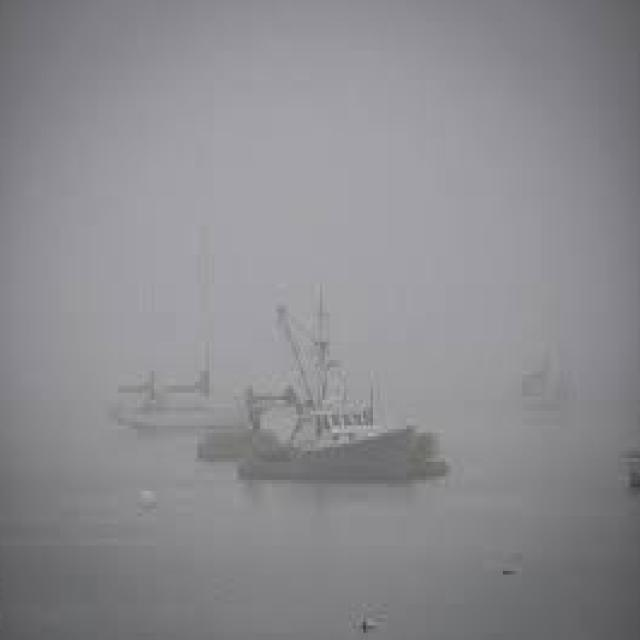cargoship: (221, 342, 437, 493)
